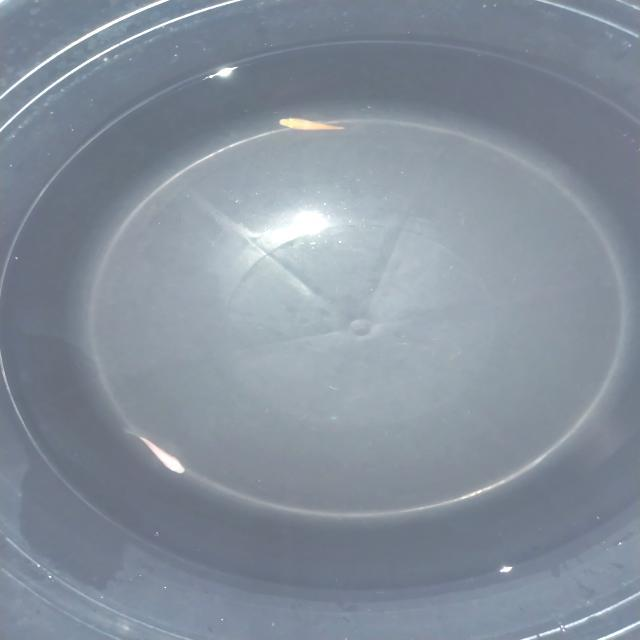nila: (125, 422, 188, 478), (272, 112, 364, 138)
